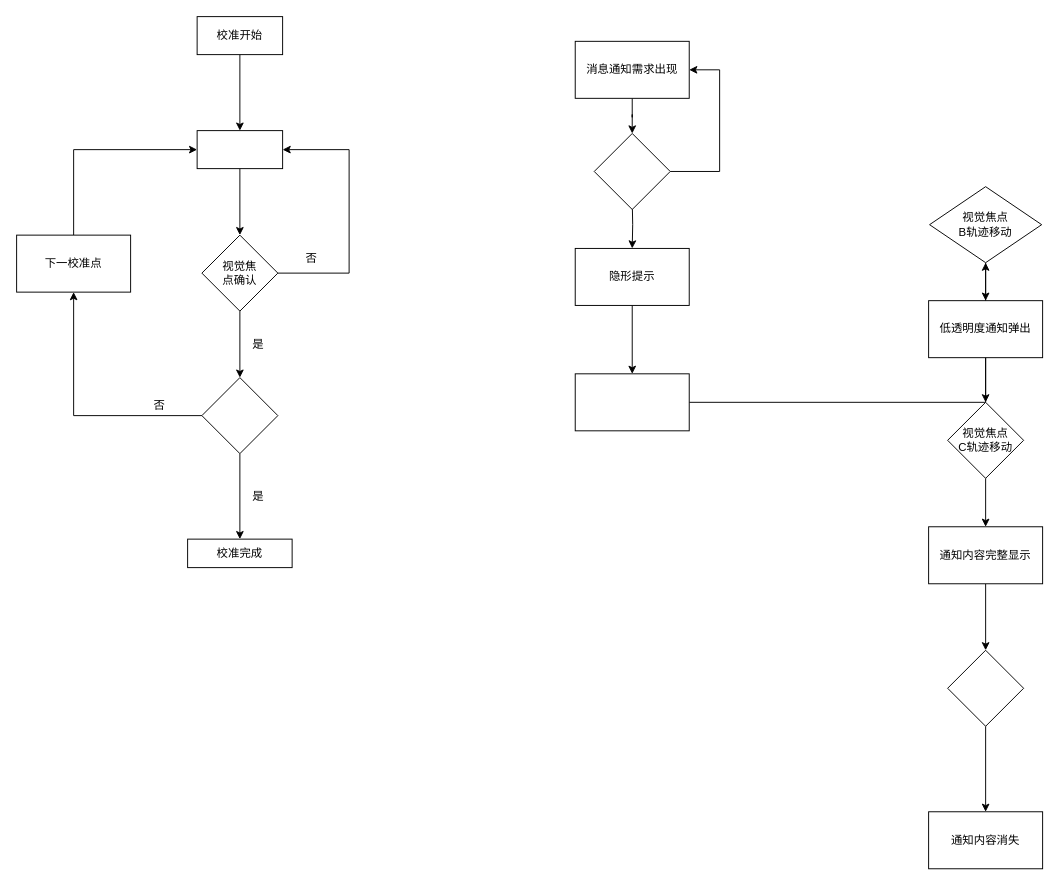
This 1059x885 diagram has some shape labels left out. Each missing label, with the box of its shape:
关键 通知: (593, 133, 670, 209)
所有视觉 焦点确认: (201, 377, 278, 454)
摄像头启动监测: (574, 373, 689, 431)
校准点高亮 并提示用户: (196, 130, 283, 169)
视觉焦点 D轨迹移动: (947, 649, 1024, 726)
